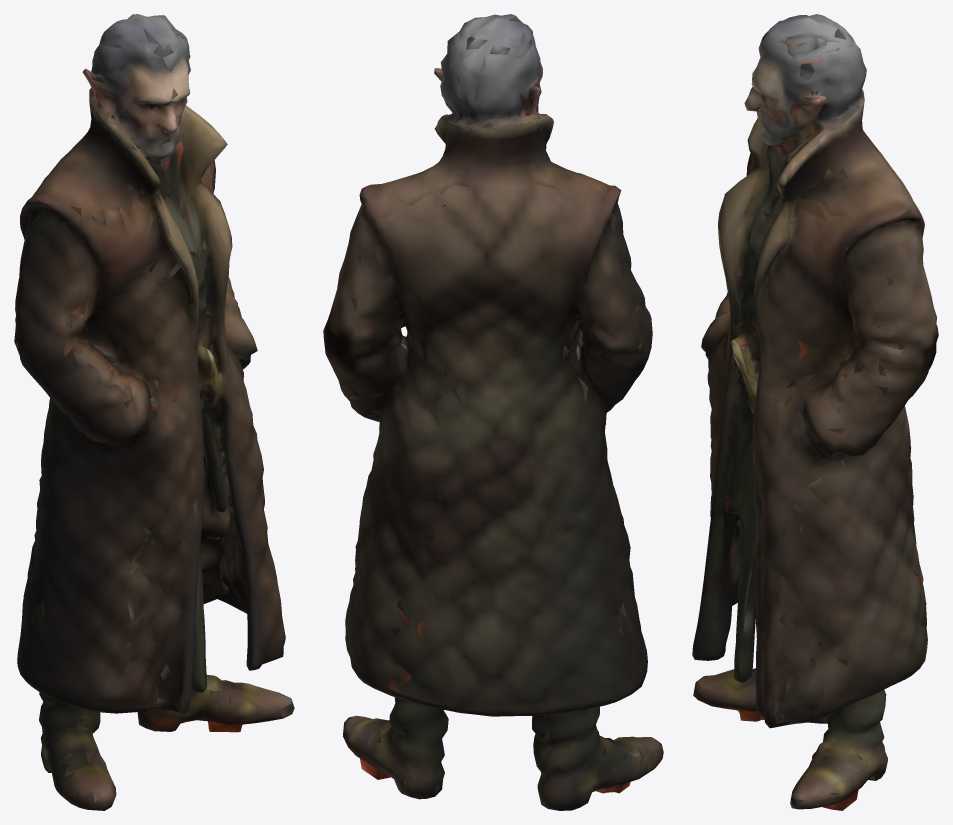
The model's file is Amriel_final.glb.
The picture shows the model from 3 angles, left to right: view 1: azimuth 30°, elevation 25°; view 2: azimuth 150°, elevation 25°; view 3: azimuth 270°, elevation 25°; orthographic projection. The views are drawn at different scales.
Parts seen in each view (by area): view 1: Mesh1.0; view 2: Mesh1.0; view 3: Mesh1.0.
Part boxes in pixels (<box>): Mesh1.0: <box>14,14,294,810</box>; Mesh1.0: <box>323,14,663,810</box>; Mesh1.0: <box>692,14,938,810</box>.
Size of the model in its own units: 0.7118 by 1.8 by 0.5438.
1 material, 1 textured.
